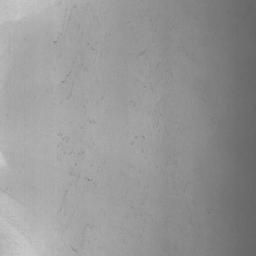Silk spot: (57, 133, 96, 186), (60, 61, 87, 104)
